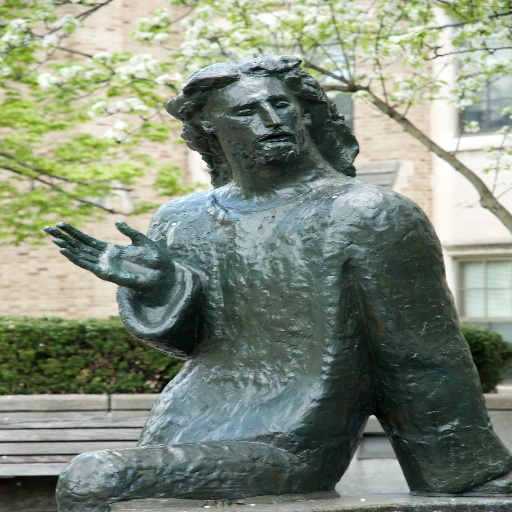hand: (45, 200, 215, 330), (465, 474, 511, 497)
